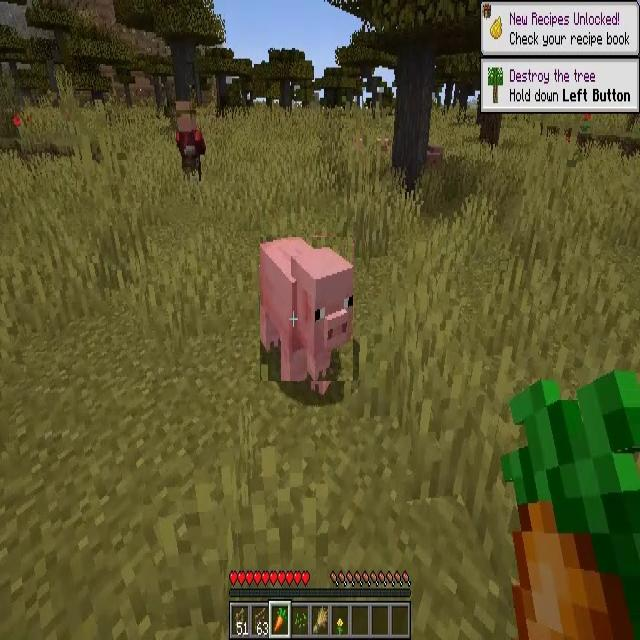pig: (260, 237, 353, 381)
